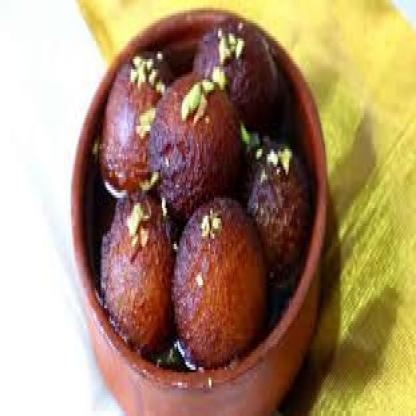gulab_jamun: (173, 199, 267, 365), (149, 74, 242, 217), (102, 193, 176, 359), (100, 52, 172, 195), (194, 18, 279, 135), (243, 142, 312, 283)
